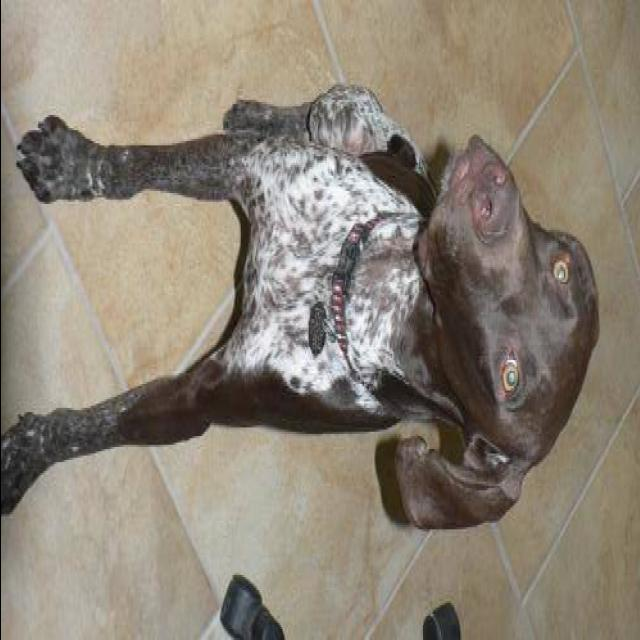dog: (0, 62, 604, 570)
